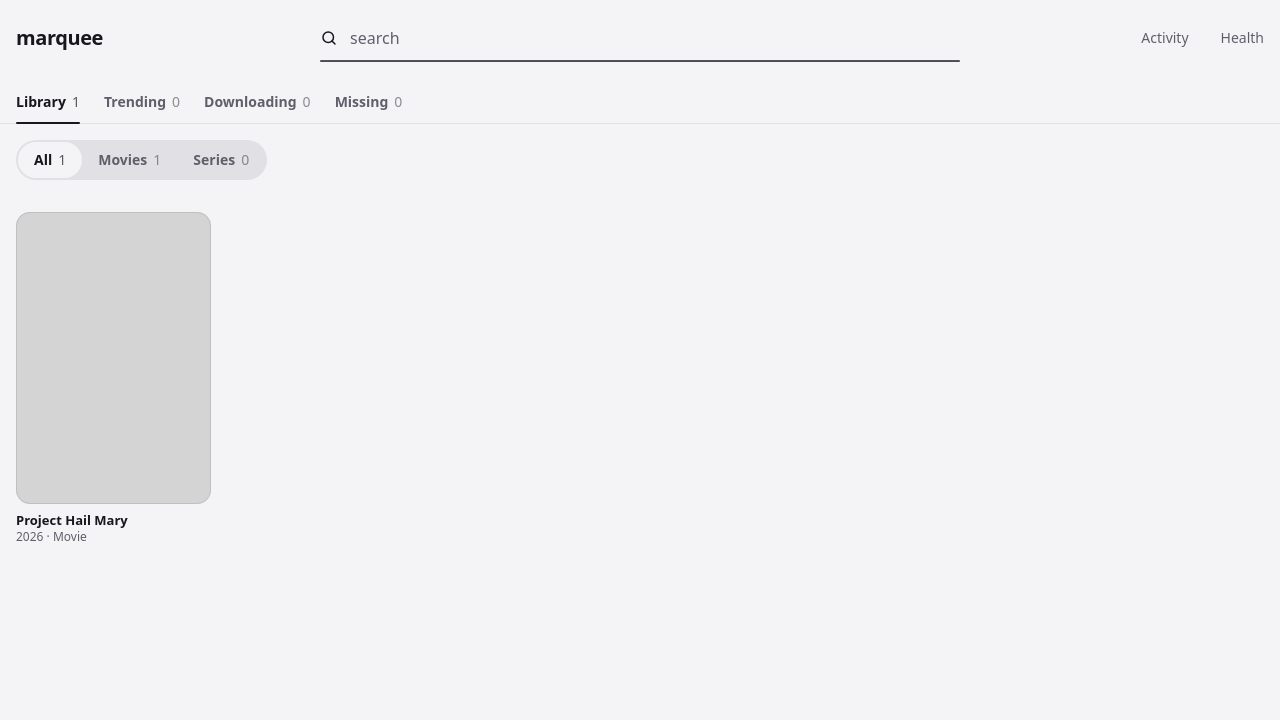
Test case: a wall with no trending titles says so in the Trending section, per kind
The width and height of the screenshot is (1280, 720).
Click the button "Trending 0" at (142, 102), box [104,80,180,124]
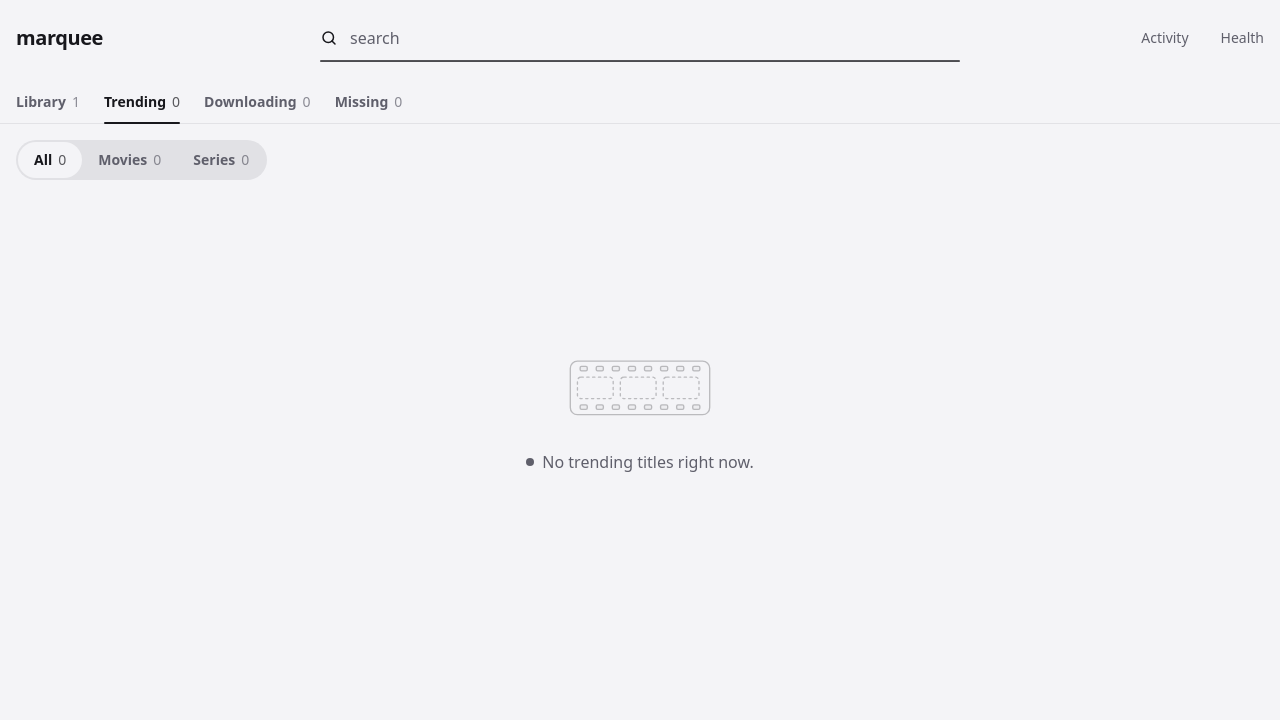
Expected: the text "No trending titles right now." is shown, [526,451,754,474]
Click the button "Series 0" at (221, 160), box [177,142,265,178]
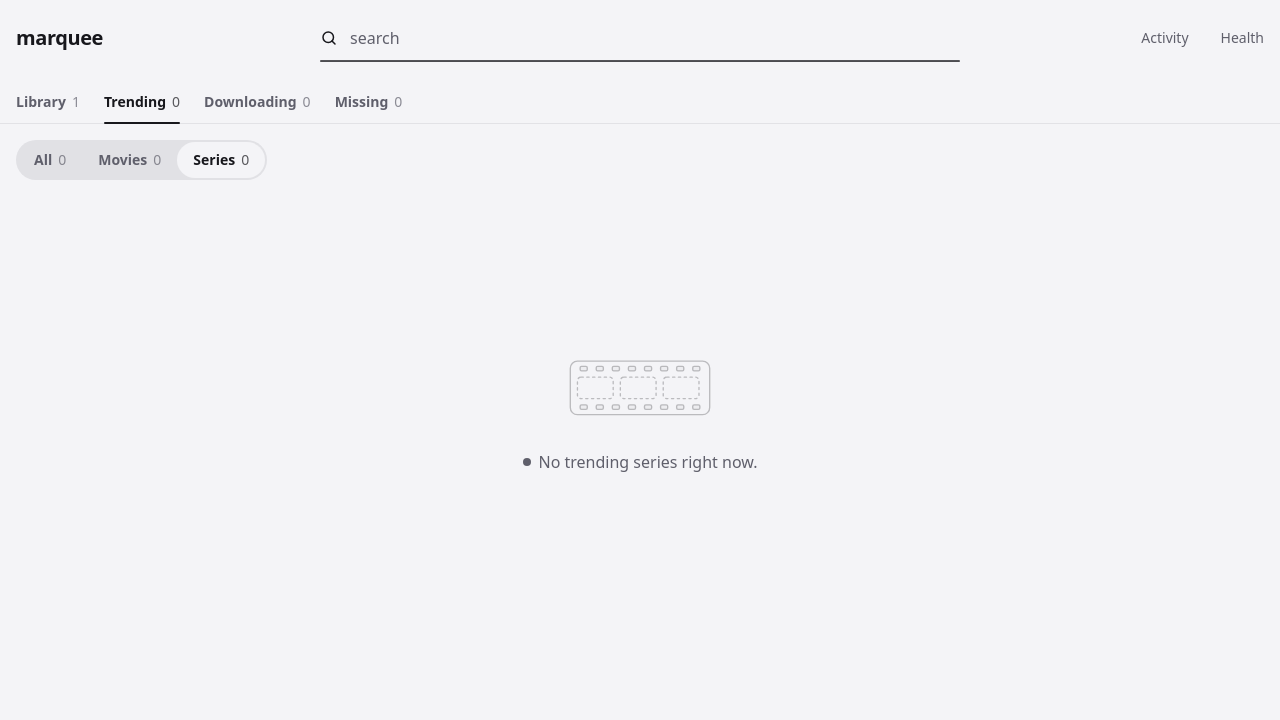
Expected: the text "No trending series right now." is shown, [522,451,758,474]
